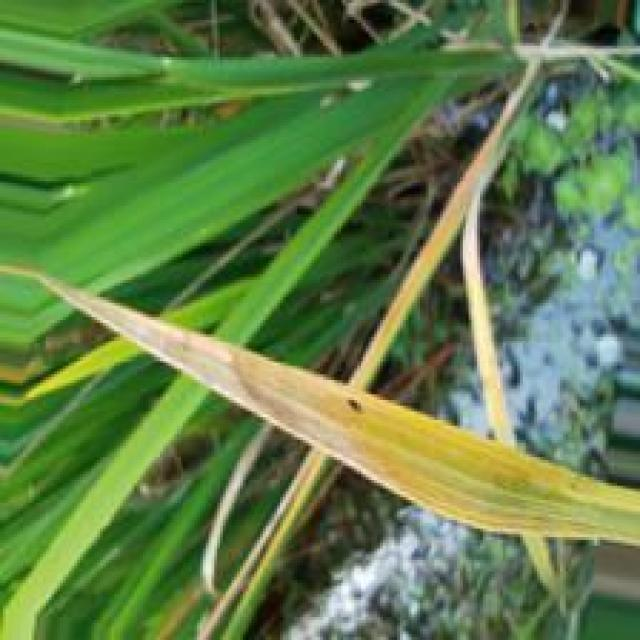Bacterial_Leaf_Blight: (72, 295, 640, 545)
